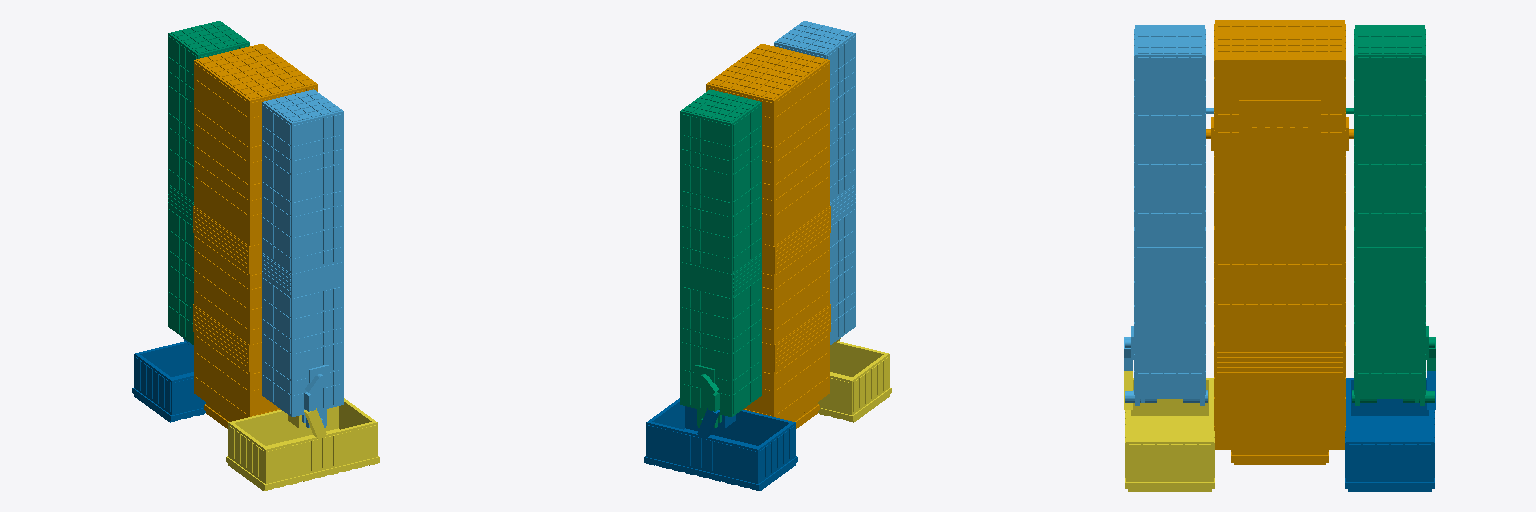
The robot description file, URDF, robot "growbot":
<?xml version="1.0"?>
<robot name="growbot">

  <link name="base_link">
    <inertial>
      <origin xyz="-0.000397 -0.000000 -0.092453" rpy="0 0 0"/>
      <mass value="0.77381"/>
      <inertia ixx="5.077842e-03" ixy="-2.275920e-22" ixz="6.435708e-06" iyy="4.865389e-03" iyz="9.605125e-21" izz="6.513856e-04"/>
    </inertial>
    <visual>
      <origin xyz="0 0 0" rpy="0 0 0"/>
      <geometry><mesh filename="meshes/base_link.obj" scale="1 1 1"/></geometry>
    </visual>
    <collision>
      <origin xyz="0.000000 0.000000 -0.075000" rpy="0 0 0"/>
      <geometry><box size="0.058000 0.082000 0.270000"/></geometry>
    </collision>
    <collision>
      <origin xyz="0.000000 0.000000 -0.216000" rpy="0 0 0"/>
      <geometry><box size="0.050000 0.060000 0.012000"/></geometry>
    </collision>
  </link>

  <link name="leg_left_link">
    <inertial>
      <origin xyz="0.000313 -0.000075 -0.084381" rpy="0 0 0"/>
      <mass value="0.24384"/>
      <inertia ixx="1.432583e-03" ixy="-1.650400e-06" ixz="-3.757082e-06" iyy="1.422022e-03" iyz="-1.171100e-05" izz="1.114463e-04"/>
    </inertial>
    <visual>
      <origin xyz="0 0 0" rpy="0 0 0"/>
      <geometry><mesh filename="meshes/leg_left_link.obj" scale="1 1 1"/></geometry>
    </visual>
    <collision>
      <origin xyz="0.000000 0.000000 -0.059000" rpy="0 0 0"/>
      <geometry><box size="0.044000 0.044000 0.238000"/></geometry>
    </collision>
  </link>

  <link name="leg_right_link">
    <inertial>
      <origin xyz="0.000313 0.000075 -0.084381" rpy="0 0 0"/>
      <mass value="0.24384"/>
      <inertia ixx="1.432583e-03" ixy="1.650400e-06" ixz="-3.757082e-06" iyy="1.422022e-03" iyz="1.171100e-05" izz="1.114463e-04"/>
    </inertial>
    <visual>
      <origin xyz="0 0 0" rpy="0 0 0"/>
      <geometry><mesh filename="meshes/leg_right_link.obj" scale="1 1 1"/></geometry>
    </visual>
    <collision>
      <origin xyz="0.000000 0.000000 -0.059000" rpy="0 0 0"/>
      <geometry><box size="0.044000 0.044000 0.238000"/></geometry>
    </collision>
  </link>

  <link name="foot_left_link">
    <inertial>
      <origin xyz="-0.000066 -0.000384 -0.030787" rpy="0 0 0"/>
      <mass value="0.08840"/>
      <inertia ixx="4.263341e-05" ixy="-1.503248e-07" ixz="1.953378e-07" iyy="9.055385e-05" iyz="1.128619e-06" izz="1.083648e-04"/>
    </inertial>
    <visual>
      <origin xyz="0 0 0" rpy="0 0 0"/>
      <geometry><mesh filename="meshes/foot_left_link.obj" scale="1 1 1"/></geometry>
    </visual>
    <collision>
      <origin xyz="0.000000 0.000000 -0.026000" rpy="0 0 0"/>
      <geometry><box size="0.097000 0.057000 0.034000"/></geometry>
    </collision>
  </link>

  <link name="foot_right_link">
    <inertial>
      <origin xyz="-0.000066 0.000384 -0.030787" rpy="0 0 0"/>
      <mass value="0.08840"/>
      <inertia ixx="4.263341e-05" ixy="1.503248e-07" ixz="1.953378e-07" iyy="9.055385e-05" iyz="-1.128619e-06" izz="1.083648e-04"/>
    </inertial>
    <visual>
      <origin xyz="0 0 0" rpy="0 0 0"/>
      <geometry><mesh filename="meshes/foot_right_link.obj" scale="1 1 1"/></geometry>
    </visual>
    <collision>
      <origin xyz="0.000000 0.000000 -0.026000" rpy="0 0 0"/>
      <geometry><box size="0.097000 0.057000 0.034000"/></geometry>
    </collision>
  </link>

  <joint name="hip_left" type="revolute">
    <parent link="base_link"/>
    <child link="leg_left_link"/>
    <origin xyz="0.000000 -0.069000 0.000000" rpy="0 0 0"/>
    <axis xyz="0 1 0"/>
    <limit lower="-1.571" upper="1.571" effort="1.08" velocity="6.16"/>
    <dynamics damping="0.05" friction="0.0"/>
  </joint>

  <joint name="hip_right" type="revolute">
    <parent link="base_link"/>
    <child link="leg_right_link"/>
    <origin xyz="0.000000 0.069000 0.000000" rpy="0 0 0"/>
    <axis xyz="0 1 0"/>
    <limit lower="-1.571" upper="1.571" effort="1.08" velocity="6.16"/>
    <dynamics damping="0.05" friction="0.0"/>
  </joint>

  <joint name="ankle_left" type="revolute">
    <parent link="leg_left_link"/>
    <child link="foot_left_link"/>
    <origin xyz="0.000000 0.000000 -0.187000" rpy="0 0 0"/>
    <axis xyz="0 1 0"/>
    <limit lower="-0.855" upper="0.855" effort="1.33" velocity="5.0"/>
    <dynamics damping="0.05" friction="0.0"/>
  </joint>

  <joint name="ankle_right" type="revolute">
    <parent link="leg_right_link"/>
    <child link="foot_right_link"/>
    <origin xyz="0.000000 0.000000 -0.187000" rpy="0 0 0"/>
    <axis xyz="0 1 0"/>
    <limit lower="-0.855" upper="0.855" effort="1.33" velocity="5.0"/>
    <dynamics damping="0.05" friction="0.0"/>
  </joint>

</robot>

--- What the picture shows (computed from the rendered views, not written in the file) ---
Views: 3 orthographic renders of the robot side by side, from view 1: azimuth 30°, elevation 25°; view 2: azimuth 150°, elevation 25°; view 3: azimuth 270°, elevation 25°.
Model growbot with 5 links and 4 joints (4 revolute), rooted at base_link, posed all joints at 0.
Links seen in each view (by area): view 1: base_link, leg_left_link, foot_left_link, leg_right_link, foot_right_link; view 2: base_link, leg_right_link, foot_right_link, leg_left_link, foot_left_link; view 3: base_link, leg_left_link, leg_right_link, foot_left_link, foot_right_link.
Boxes of the visible links, box(x1,y1,x2,y2) form: base_link: box(193, 44, 317, 428); leg_left_link: box(262, 89, 343, 427); foot_left_link: box(226, 398, 379, 490); leg_right_link: box(168, 21, 249, 344); foot_right_link: box(132, 338, 205, 422); base_link: box(706, 44, 830, 428); leg_right_link: box(680, 89, 761, 427); foot_right_link: box(644, 398, 797, 490); leg_left_link: box(774, 21, 855, 344); foot_left_link: box(818, 338, 891, 422); base_link: box(1206, 20, 1353, 464); leg_left_link: box(1124, 25, 1213, 405); leg_right_link: box(1346, 25, 1435, 405); foot_left_link: box(1124, 371, 1214, 491); foot_right_link: box(1345, 371, 1435, 491).
Bounding box of the posed robot: 0.097 × 0.196 × 0.2905 m (x, y, z).
5 mesh visuals loaded from 5 distinct referenced files (5 OBJ).
